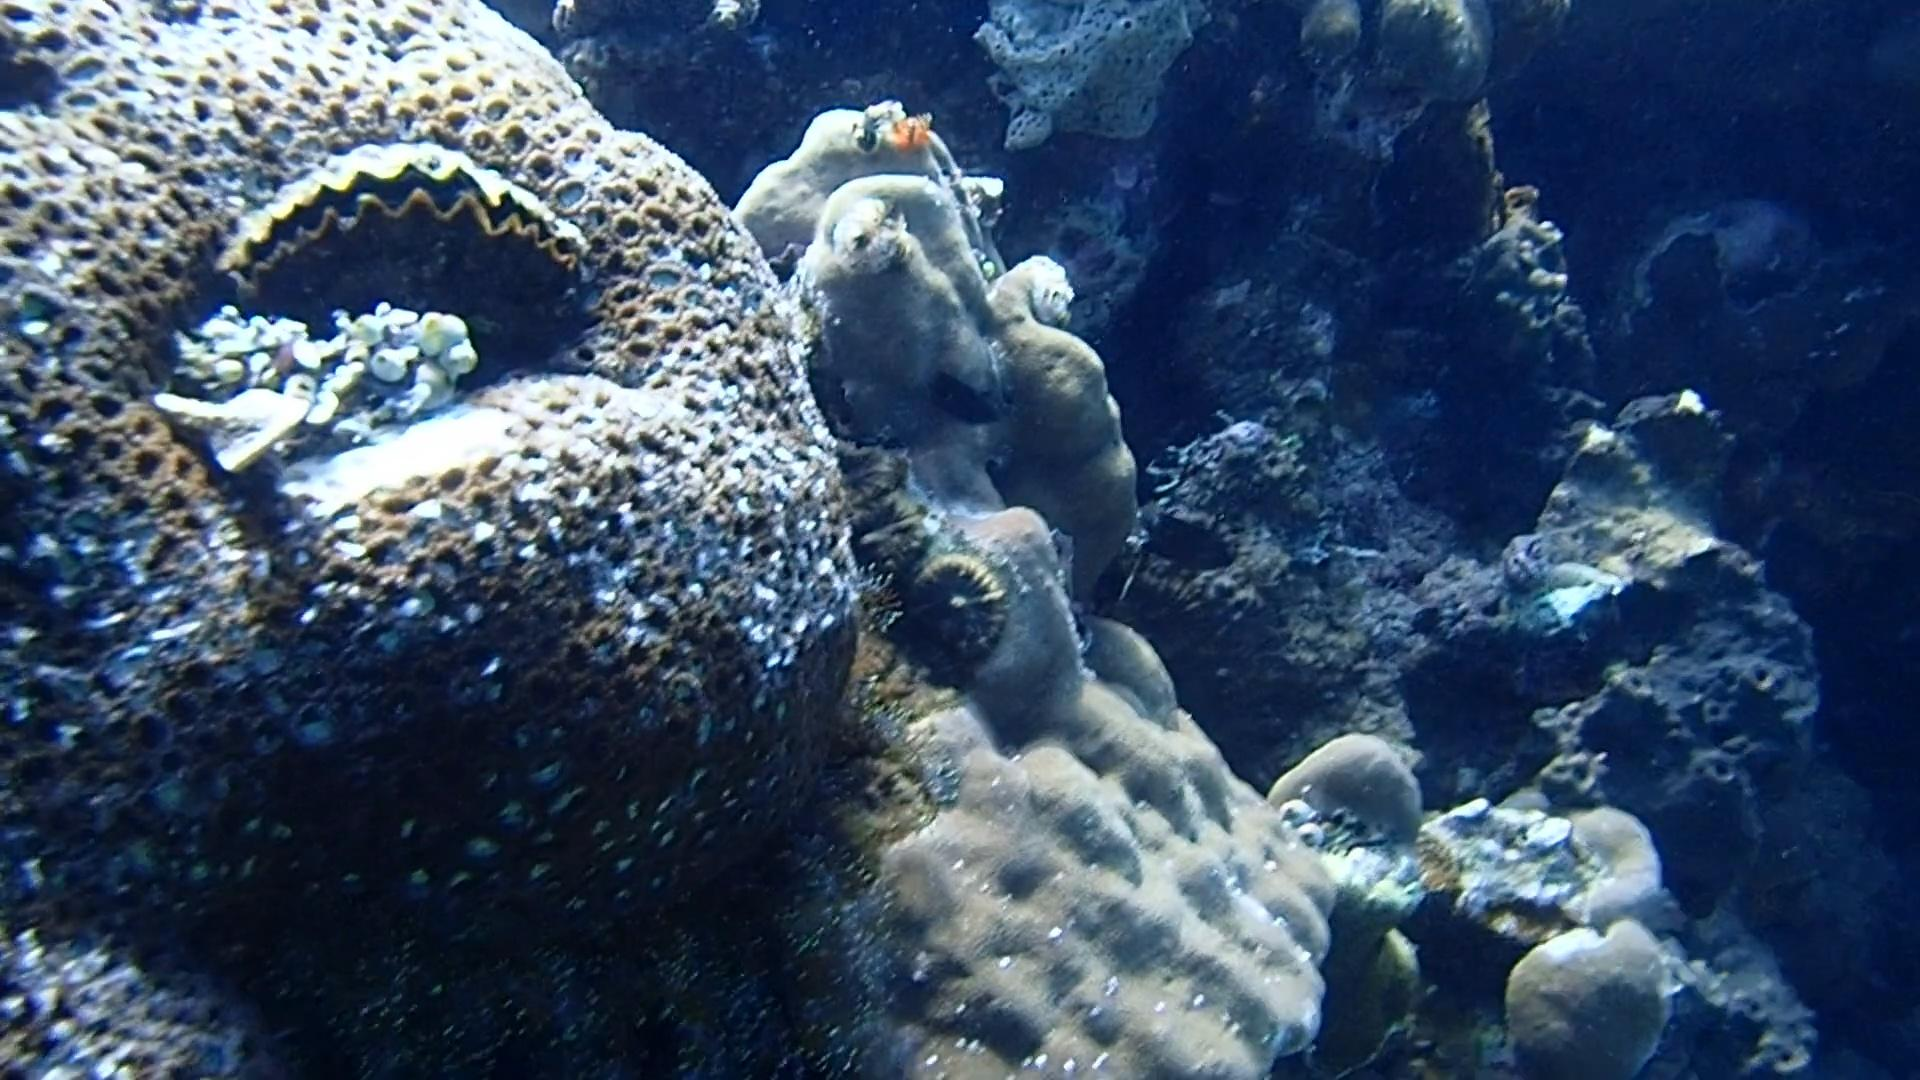Dark Fish: (1129, 492, 1250, 585), (918, 351, 1013, 440)
